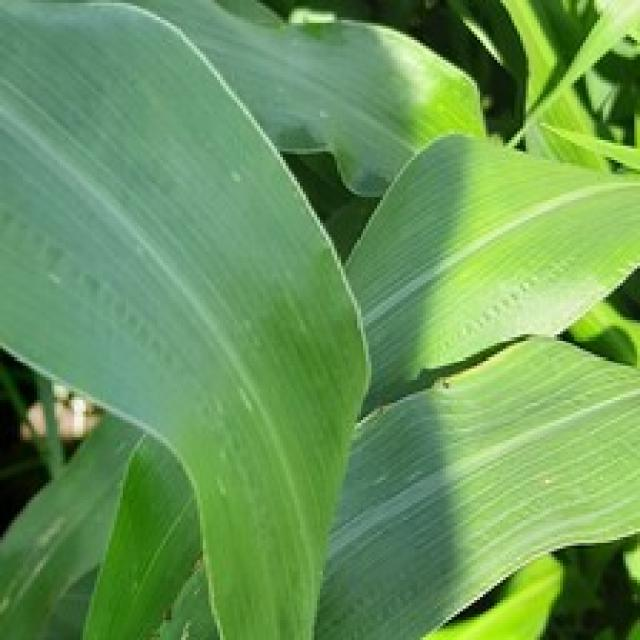Corn: (0, 0, 637, 637), (309, 329, 637, 637), (0, 0, 486, 197), (337, 128, 637, 412)
